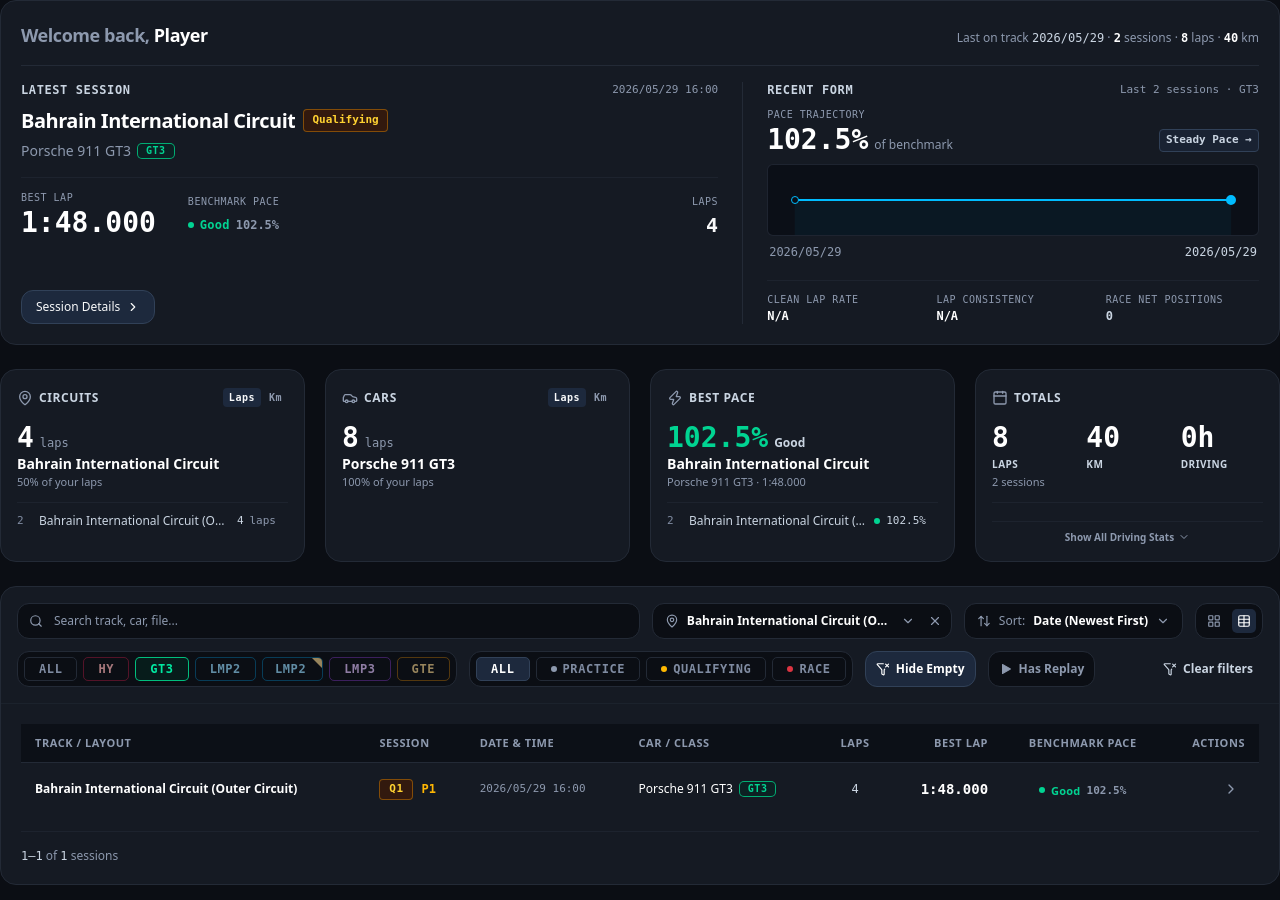
Test: Dashboard component › keeps the full layout name selected when arriving from the leaderboard
This screenshot has width=1280, height=900.
Click the dropdown named "Filter by track".
click(802, 621)  # box [652,603,952,639]
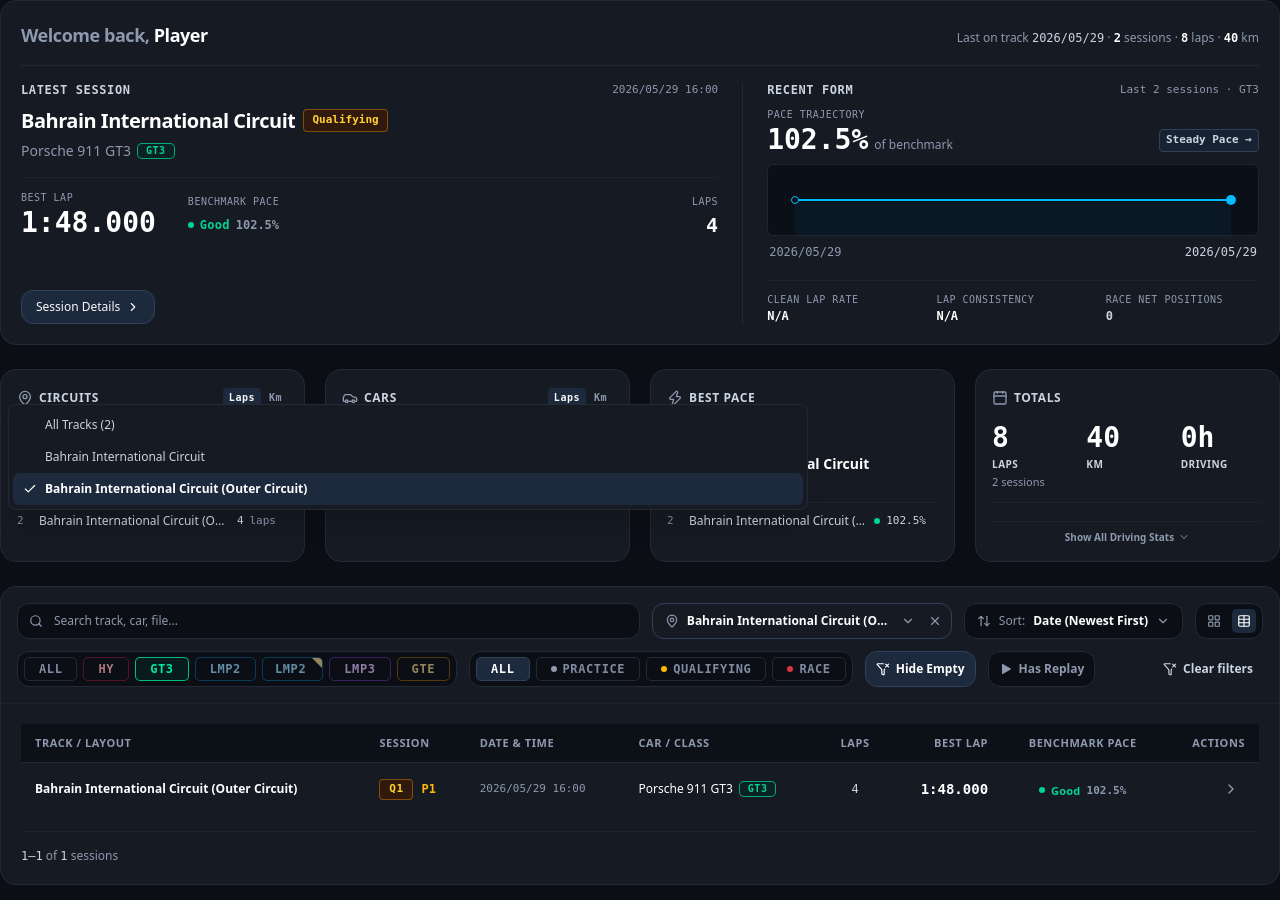
Click the option "Bahrain International Circuit".
click(125, 456)  # box [45,448,205,465]
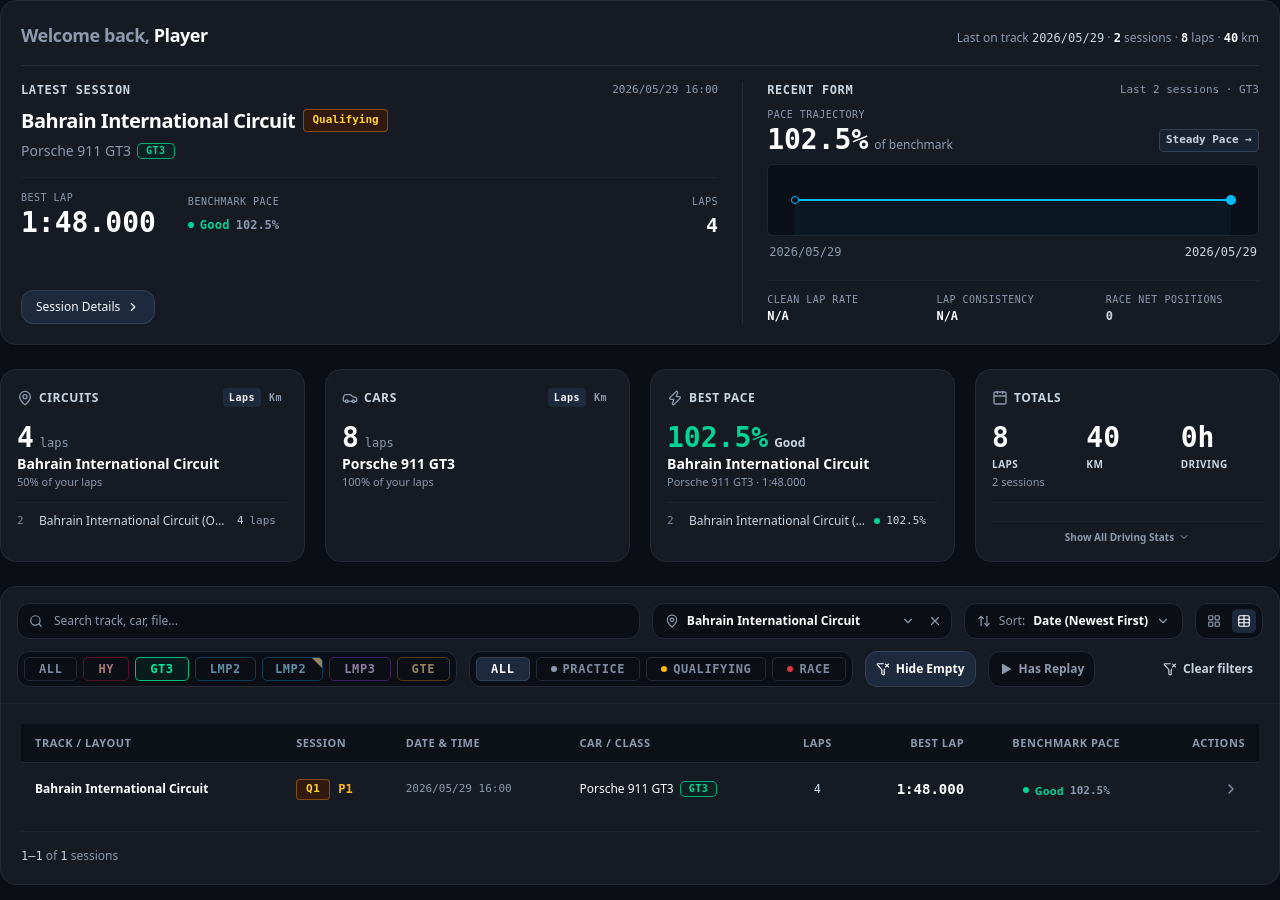
Expected: the link "Bahrain International Circuit" below "Latest session" is shown, [21,106,296,134]
Expected: the dropdown named "Filter by track" reads "Bahrain International Circuit", [652,603,952,639]
Click the button named "Reset track filter".
click(935, 621)  # box [926,612,944,630]
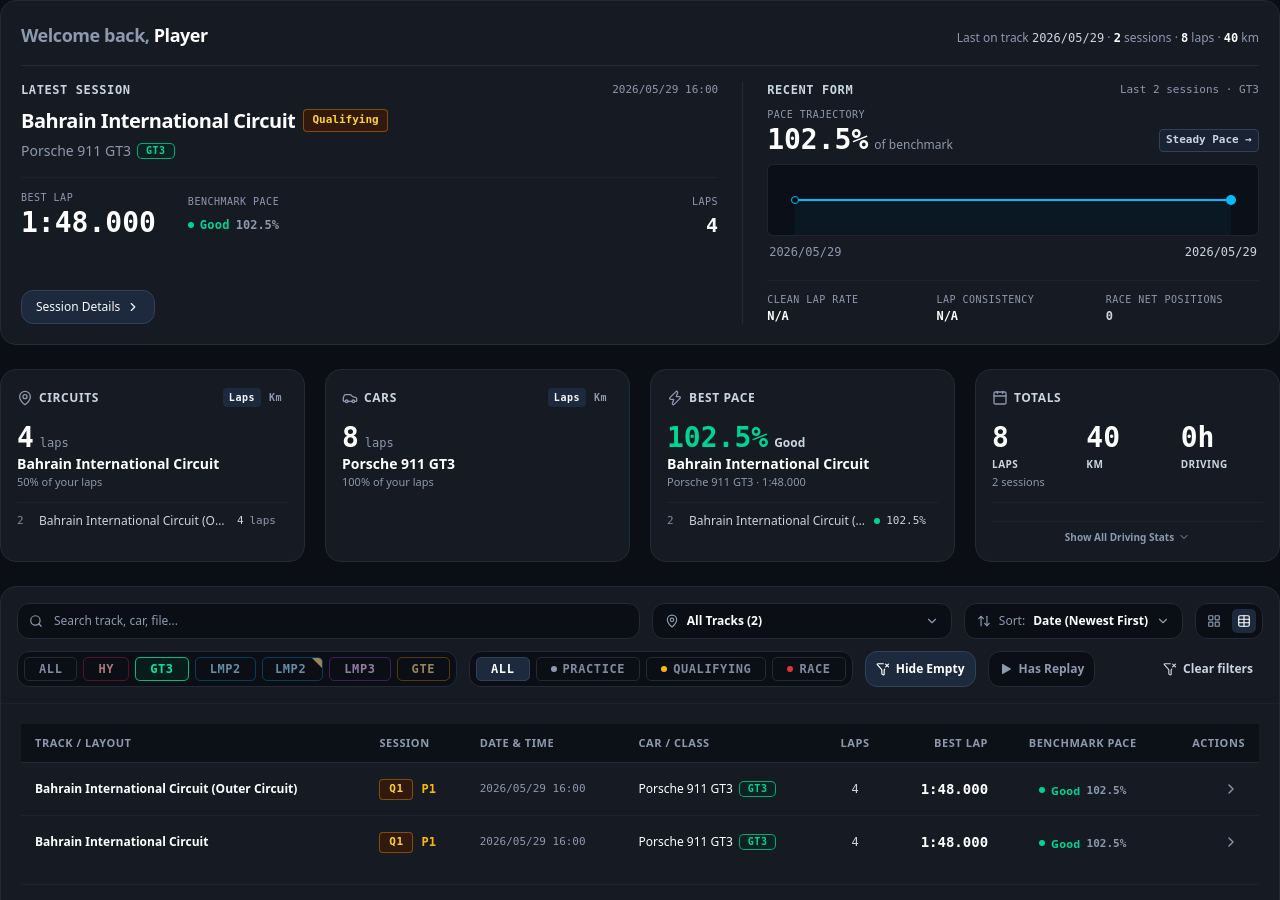
Expected: the dropdown named "Filter by track" shows "All Tracks", [652,603,952,639]
